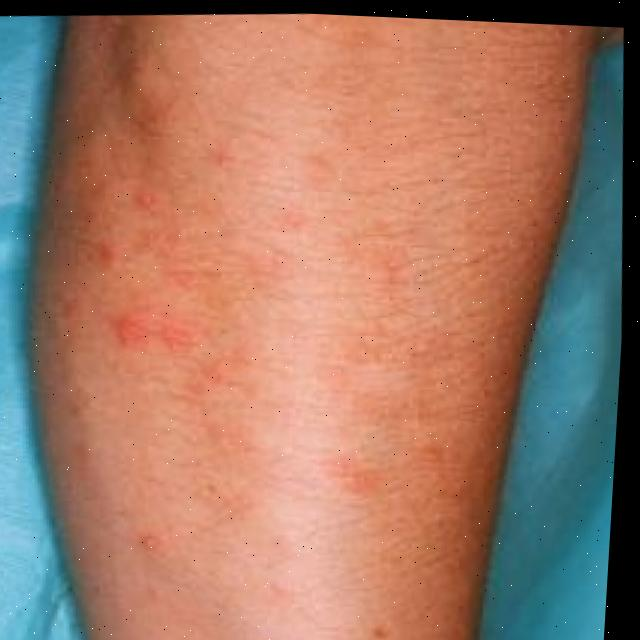Eczema: (5, 139, 479, 640)
